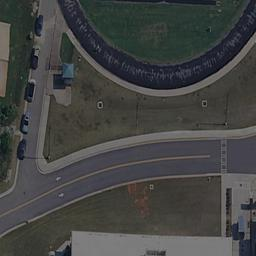Car: (18, 10, 40, 161)
Crosswalk: (220, 141, 228, 174)
Double Solid Yellow Line: (41, 161, 133, 191), (1, 191, 46, 220), (131, 157, 210, 161)
Stright Arrow: (54, 174, 62, 181), (58, 191, 65, 197)
